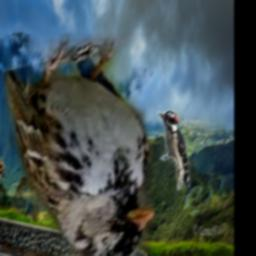Sparrow: (6, 34, 155, 256), (0, 147, 6, 185)
Woodpecker: (158, 111, 191, 191)
